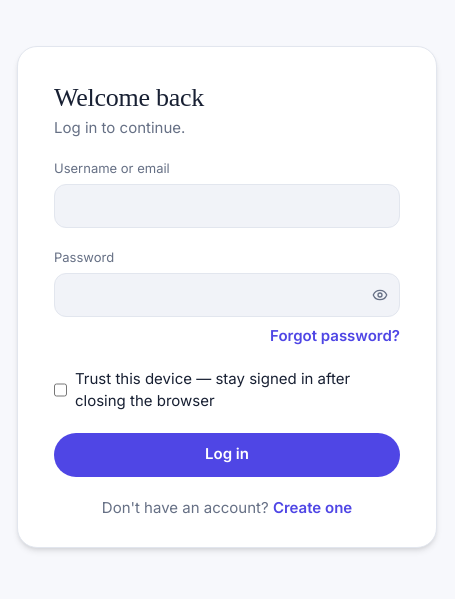
Test: LoginScreen › shows the backend's generic invalid-credentials message, not tied to a field
Type "demo@example.com" into the field labelled "Username or email" at {"x": 227, "y": 206}, box left=54, top=184, right=400, bottom=228
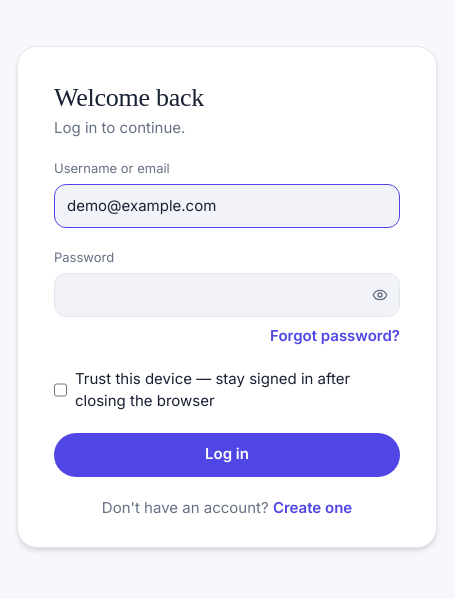
Type "wrong-password" into the password field labelled "Password" at {"x": 227, "y": 295}, box left=54, top=273, right=400, bottom=317
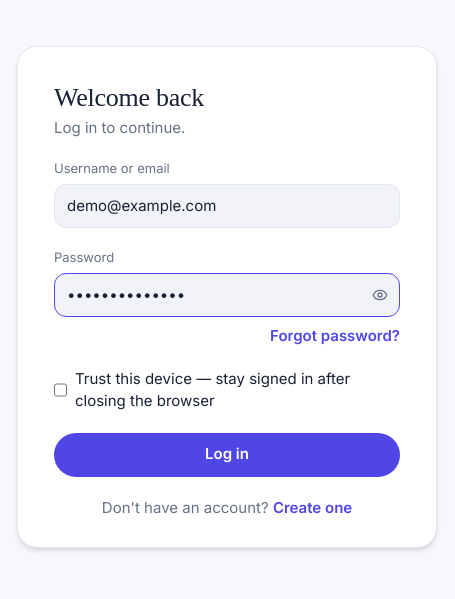
Click the button "Log in" at {"x": 227, "y": 454}, box left=54, top=432, right=400, bottom=476
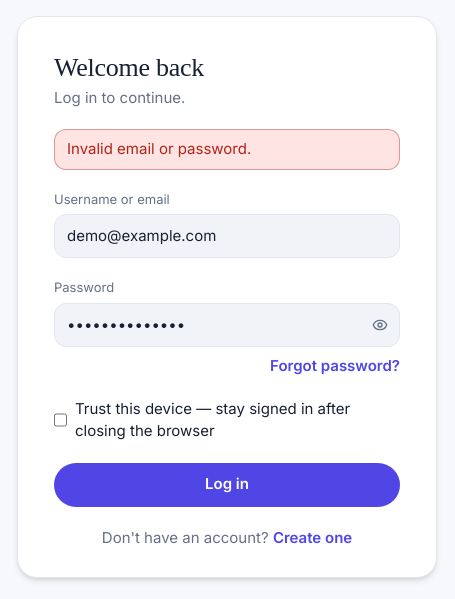
Now the text "Invalid email or password." is shown, box left=54, top=129, right=400, bottom=170
